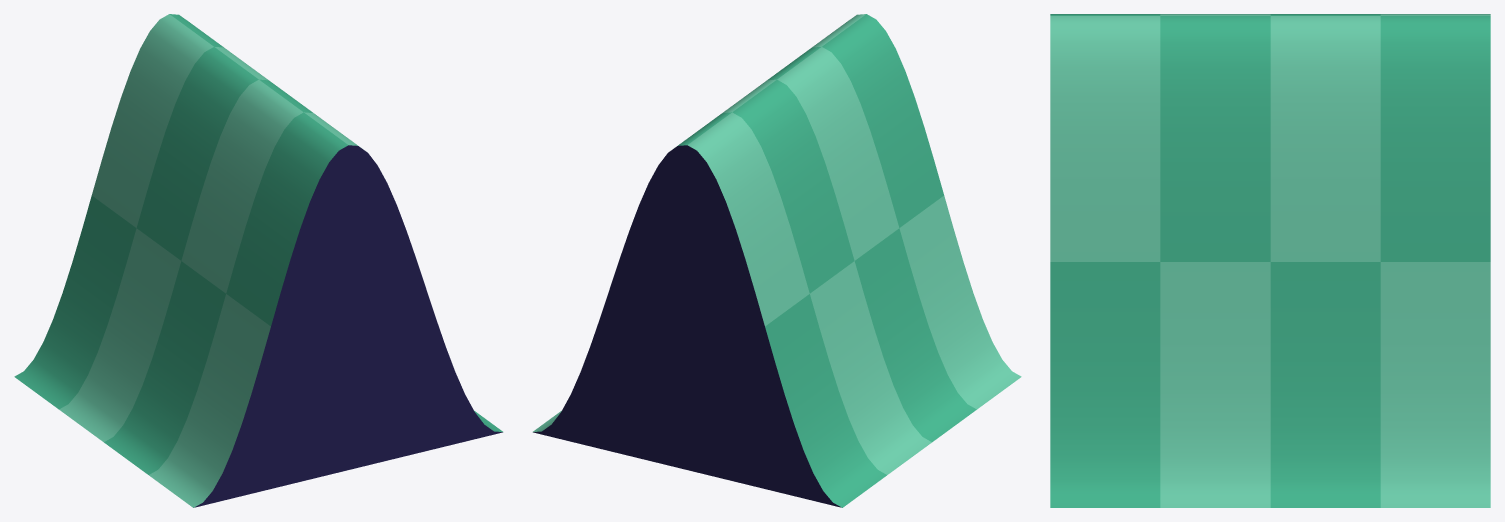
Rendered from arch_mint.glb.
3 views of the same model, side by side, from view 1: azimuth 30°, elevation 25°; view 2: azimuth 150°, elevation 25°; view 3: azimuth 270°, elevation 25° (orthographic). The views are drawn at different scales.
Parts seen in each view (by area): view 1: Body; view 2: Body; view 3: Body.
Part boxes in pixels (bbox=[...]): Body: bbox=[14, 14, 503, 507]; Body: bbox=[532, 14, 1021, 507]; Body: bbox=[1050, 14, 1490, 507].
Size of the model in its own units: 1 by 1 by 1.
